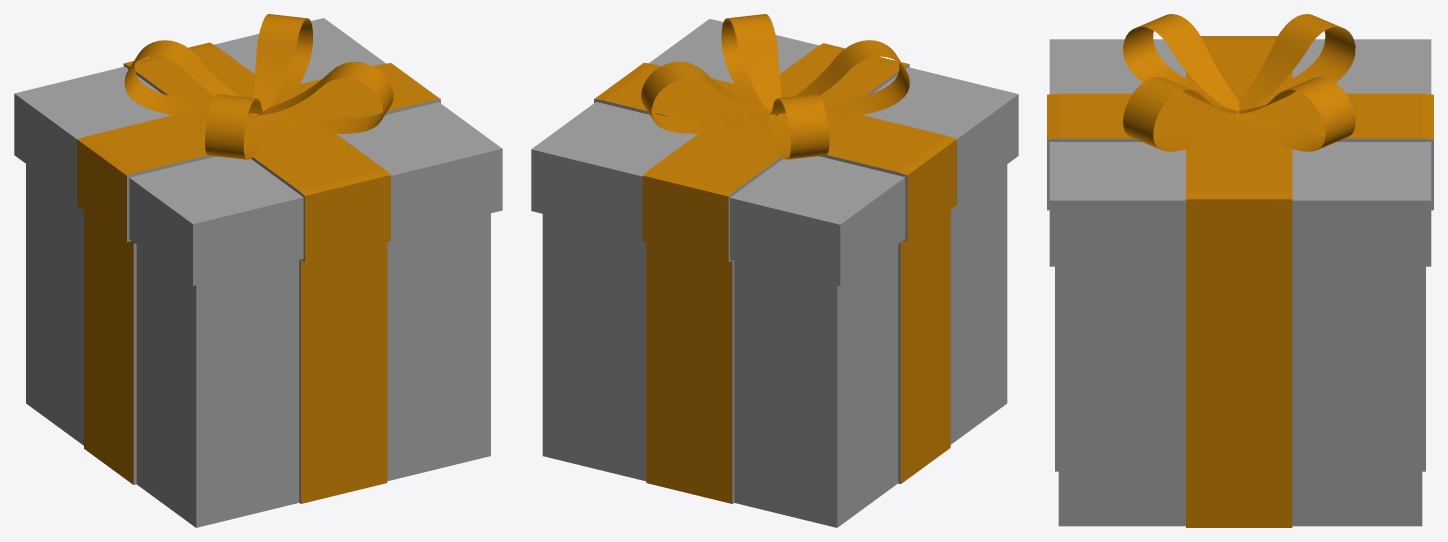
Rendered from Present Small Orange.glb.
3 renders of one model, left to right at view 1: azimuth 30°, elevation 25°; view 2: azimuth 150°, elevation 25°; view 3: azimuth 270°, elevation 25°, orthographic. The views are drawn at different scales.
Visible parts, largest first — view 1: Cube, BézierCircle.001, BézierCircle.003, BézierCircle, BézierCircle.004; view 2: Cube, BézierCircle, BézierCircle.004, BézierCircle.001, BézierCircle.003; view 3: Cube, BézierCircle.003, BézierCircle.004, BézierCircle.001, BézierCircle.
Boxes of the visible parts, bbox=[...] form: Cube: bbox=[14, 18, 502, 527]; BézierCircle.001: bbox=[253, 14, 312, 110]; BézierCircle.003: bbox=[124, 40, 258, 118]; BézierCircle: bbox=[258, 61, 393, 133]; BézierCircle.004: bbox=[205, 94, 264, 159]; Cube: bbox=[531, 19, 1018, 527]; BézierCircle: bbox=[721, 14, 781, 110]; BézierCircle.004: bbox=[776, 40, 909, 118]; BézierCircle.001: bbox=[641, 61, 776, 133]; BézierCircle.003: bbox=[769, 94, 829, 159]; Cube: bbox=[1047, 36, 1433, 527]; BézierCircle.003: bbox=[1239, 14, 1355, 113]; BézierCircle.004: bbox=[1123, 14, 1239, 113]; BézierCircle.001: bbox=[1236, 77, 1355, 151]; BézierCircle: bbox=[1123, 77, 1242, 151].
Bounding box in the file's own units: 0.4257 × 0.4805 × 0.4257.
